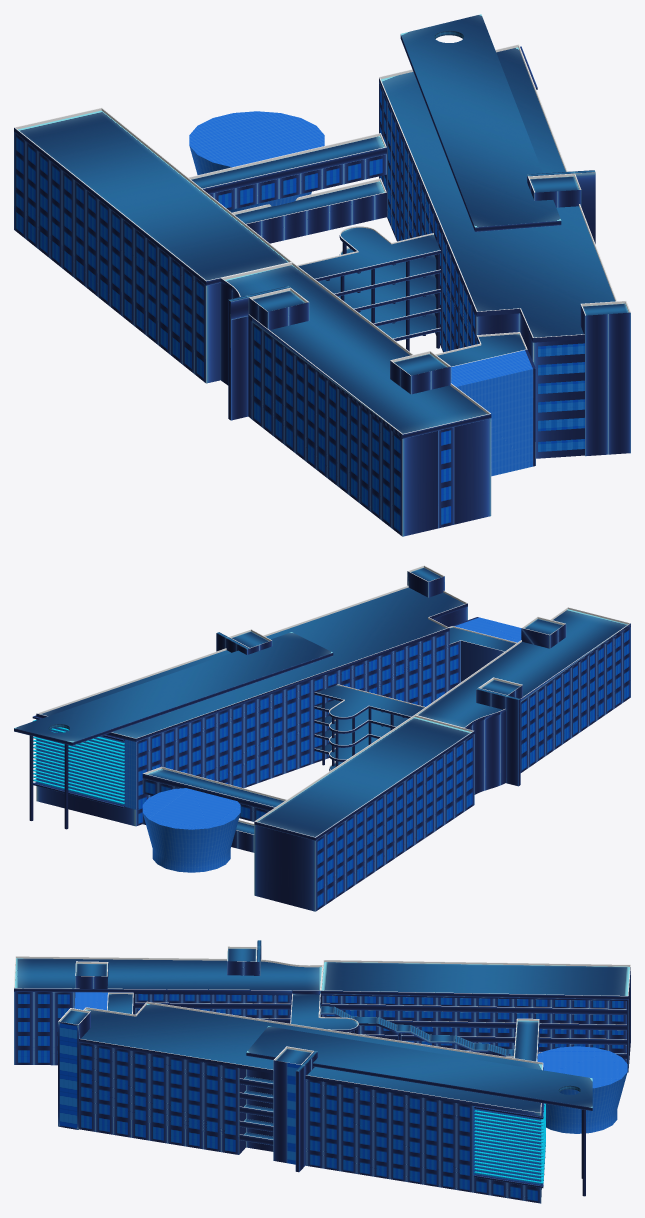
File: 1hjxl.obj
3 views of the same model, one above another, from view 1: azimuth 30°, elevation 25°; view 2: azimuth 150°, elevation 25°; view 3: azimuth 270°, elevation 25° (orthographic). The views are drawn at different scales.
Parts seen in each view (by area): view 1: Line008; view 2: Line008; view 3: Line008.
Boxes of the visible parts, x1,y1,x2,y2 form: Line008: (14, 14, 630, 536); Line008: (14, 565, 630, 911); Line008: (14, 940, 630, 1203).
Size of the model in its own units: 108 by 30.31 by 161.
